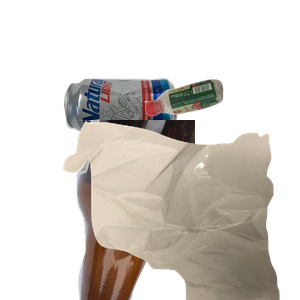glass: (60, 120, 300, 300)
metal: (61, 75, 231, 202)
plastic: (142, 77, 300, 186)
trash: (61, 120, 300, 300)
